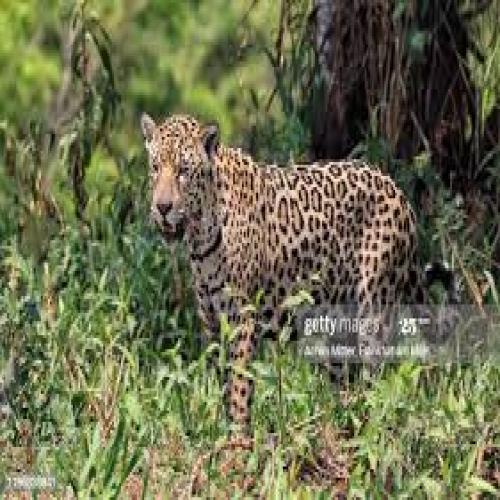jaguar_not-endangered: (147, 116, 413, 438)
